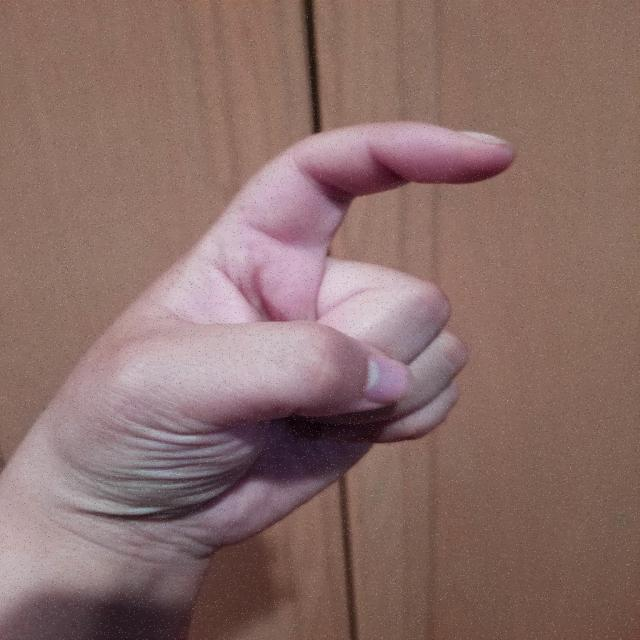X: (0, 115, 526, 556)
